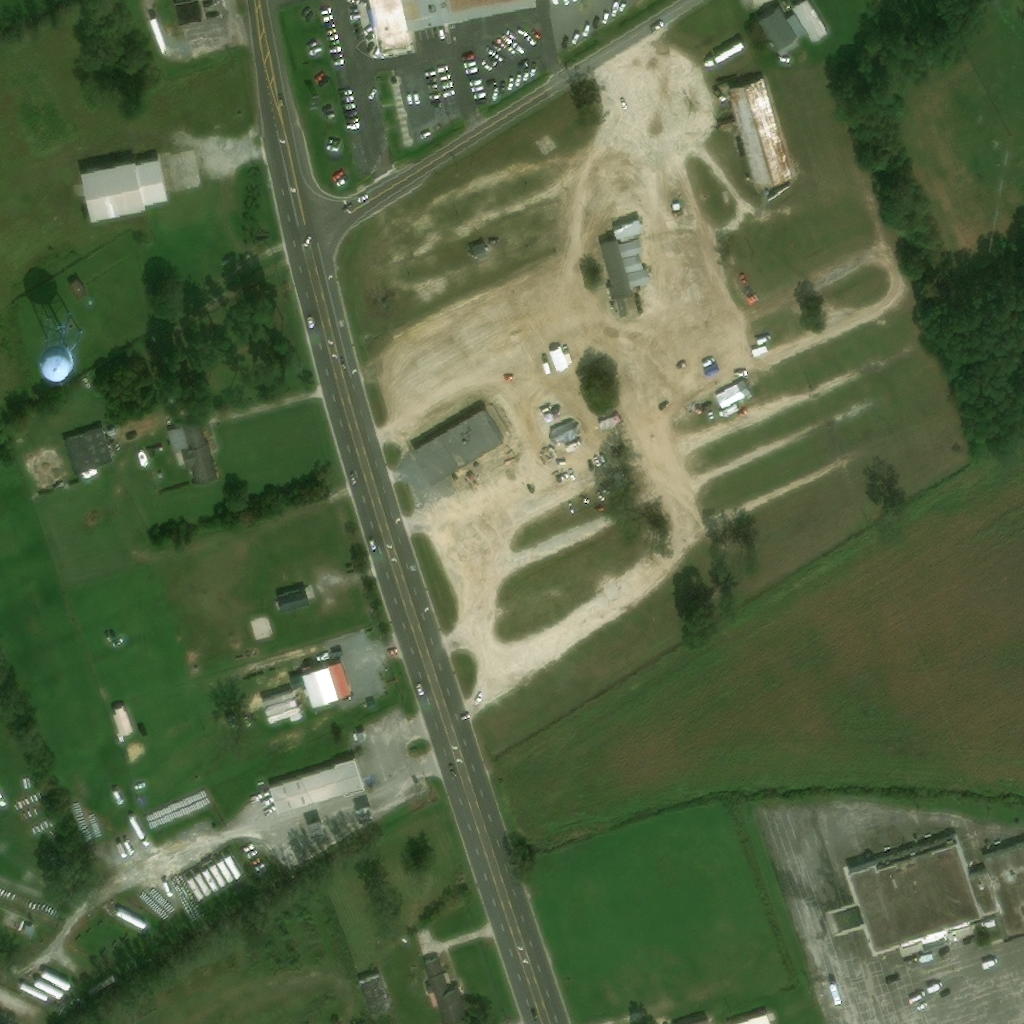no_damage: (843, 833, 1024, 960), (367, 0, 539, 52), (407, 403, 505, 484), (726, 77, 792, 187), (265, 755, 363, 816), (77, 156, 170, 219), (754, 0, 828, 56), (600, 217, 651, 298), (166, 421, 217, 483), (9, 312, 83, 353), (421, 956, 466, 1023), (62, 426, 111, 474), (297, 663, 348, 707), (355, 971, 392, 1015), (276, 585, 308, 611), (174, 0, 206, 26), (111, 705, 133, 737), (116, 908, 147, 930), (33, 979, 63, 998), (41, 971, 70, 990), (20, 984, 50, 1002), (731, 1011, 776, 1023), (191, 872, 211, 898), (214, 858, 234, 884), (206, 863, 226, 888), (199, 867, 218, 893), (221, 854, 240, 879), (185, 876, 203, 902), (68, 279, 87, 301), (471, 244, 491, 260), (615, 296, 626, 317), (23, 926, 35, 938), (365, 699, 377, 709)
